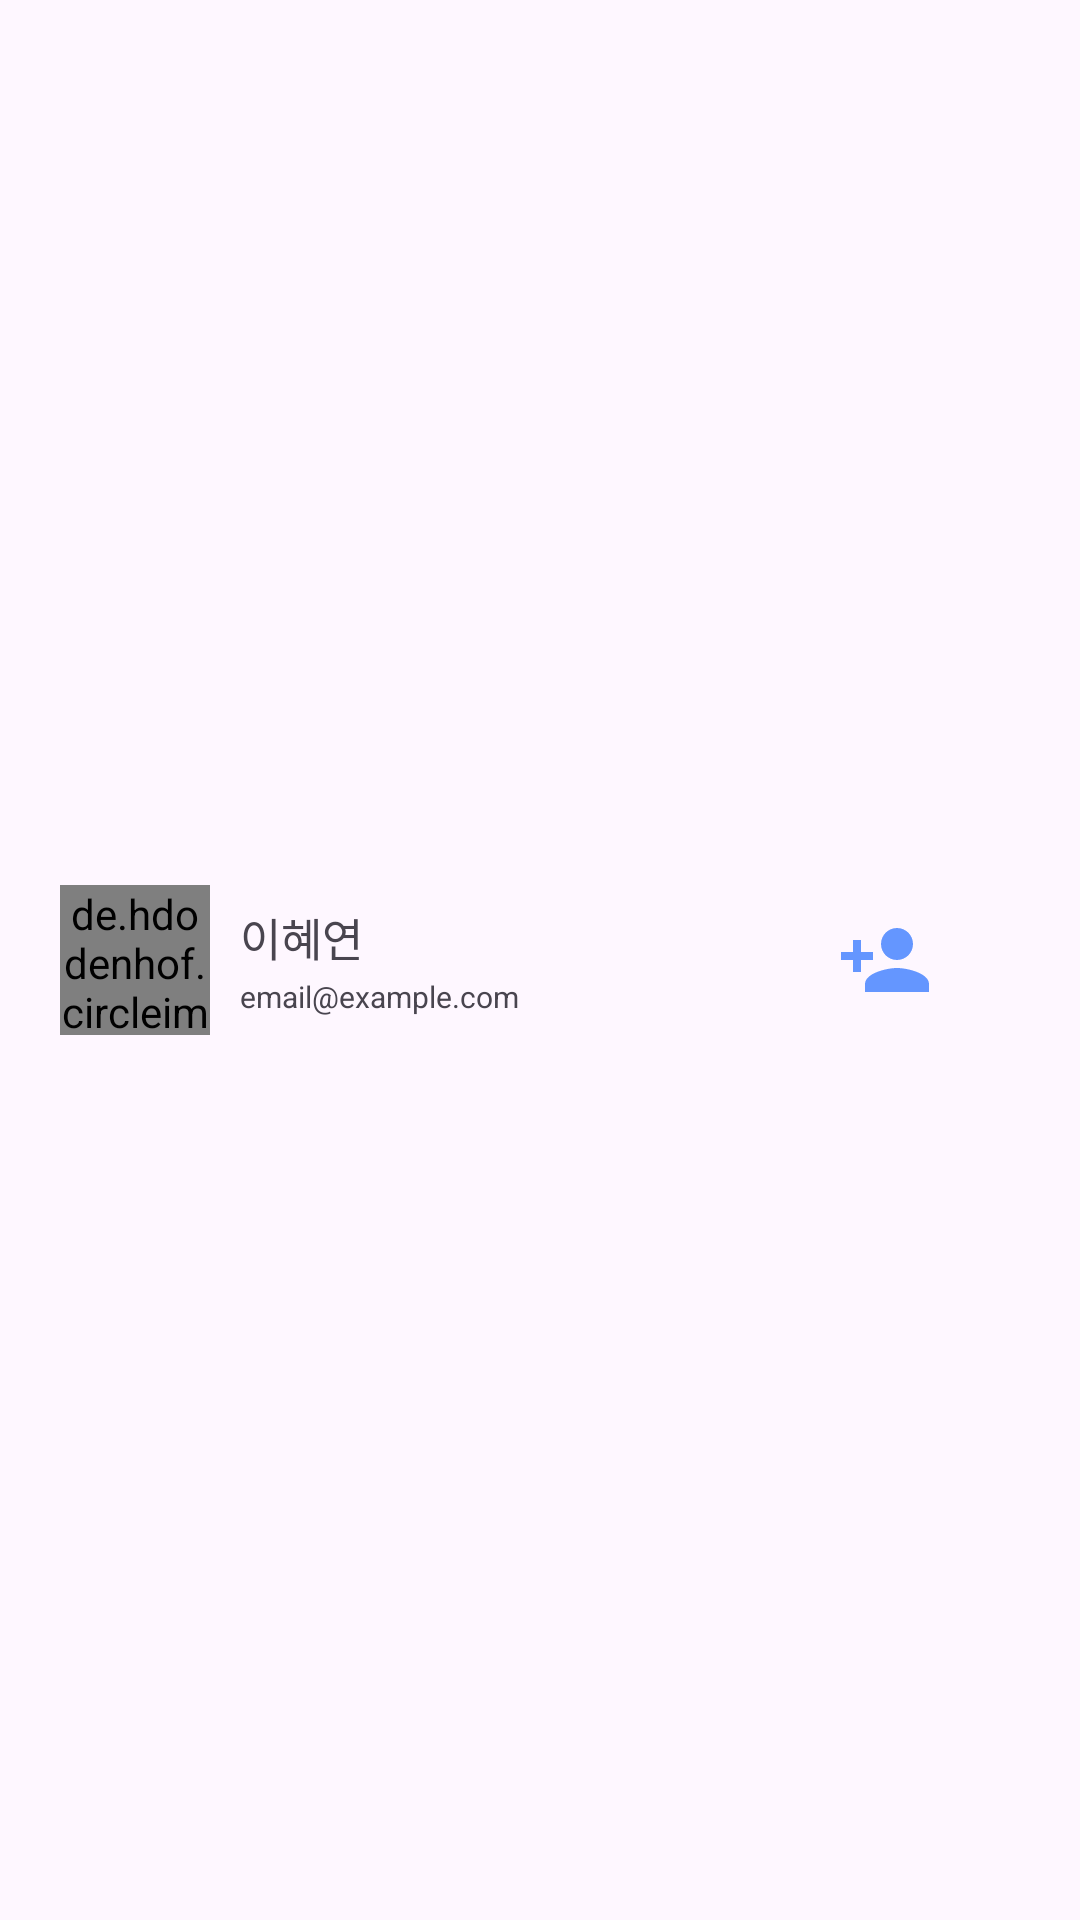

Icon bounding boxes for this 1080×1920 phone screenshot, format [x1=x1, y1=y1, x2=x2, y2=y2]:
friend plus: [x1=841, y1=928, x2=929, y2=992]
